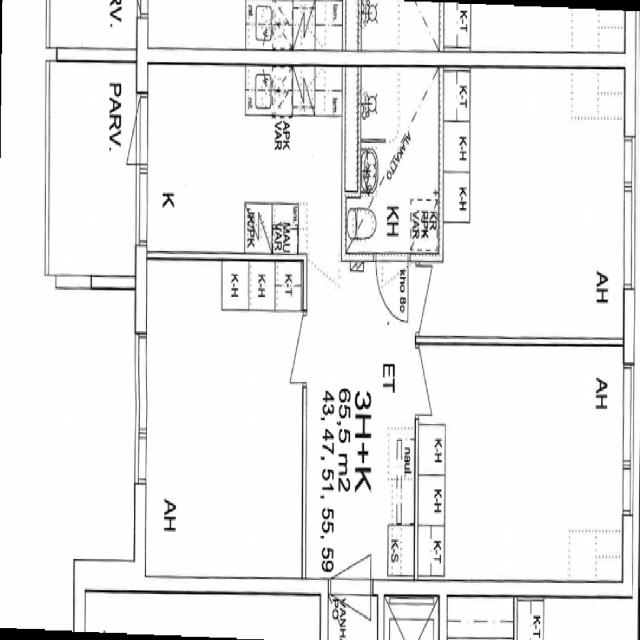door: (330, 505, 370, 598), (100, 95, 148, 163), (414, 265, 454, 332), (268, 317, 308, 383), (414, 348, 454, 414), (376, 254, 408, 322)
